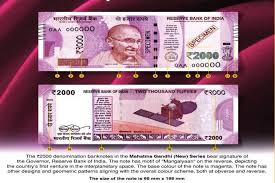twoThousand: (49, 23, 225, 62)
